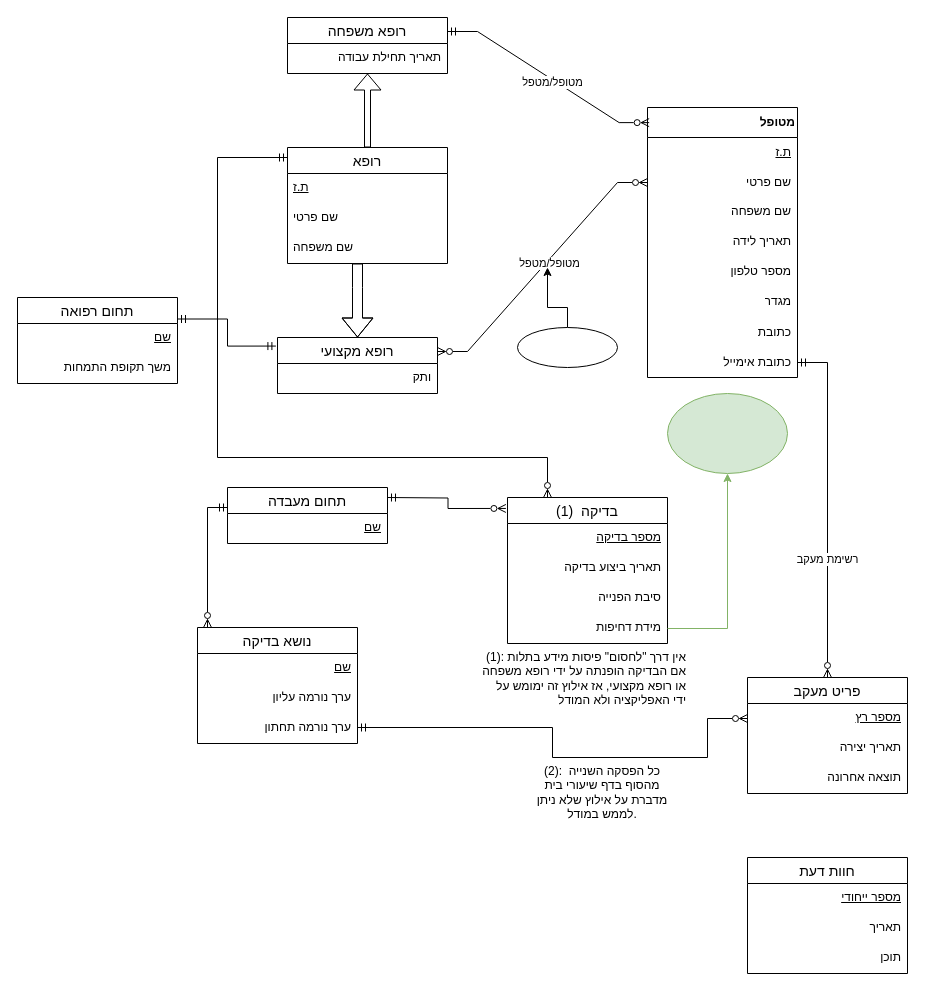
Image size: 925x994. Some labels were removed from this diagram. Each missing label, with the centre of its shape:
לא דחוף, דחוף, דחוף מאוד: (727,433)
תאריך שיוך: (567,347)
